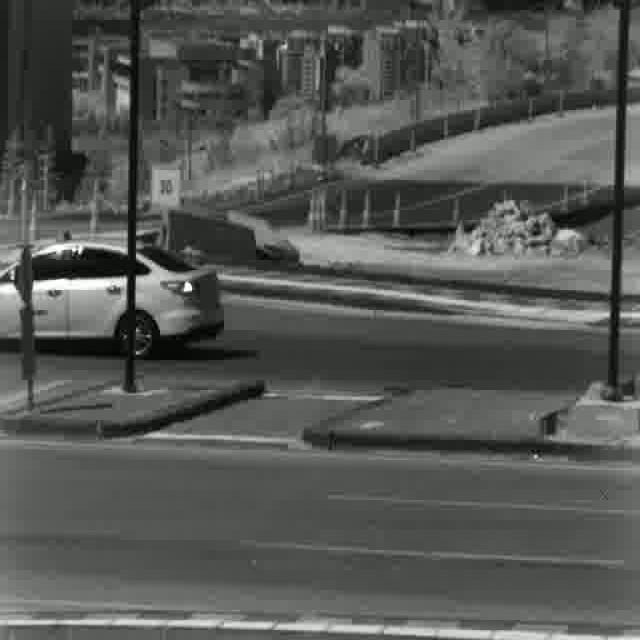Car: (0, 241, 229, 360)
